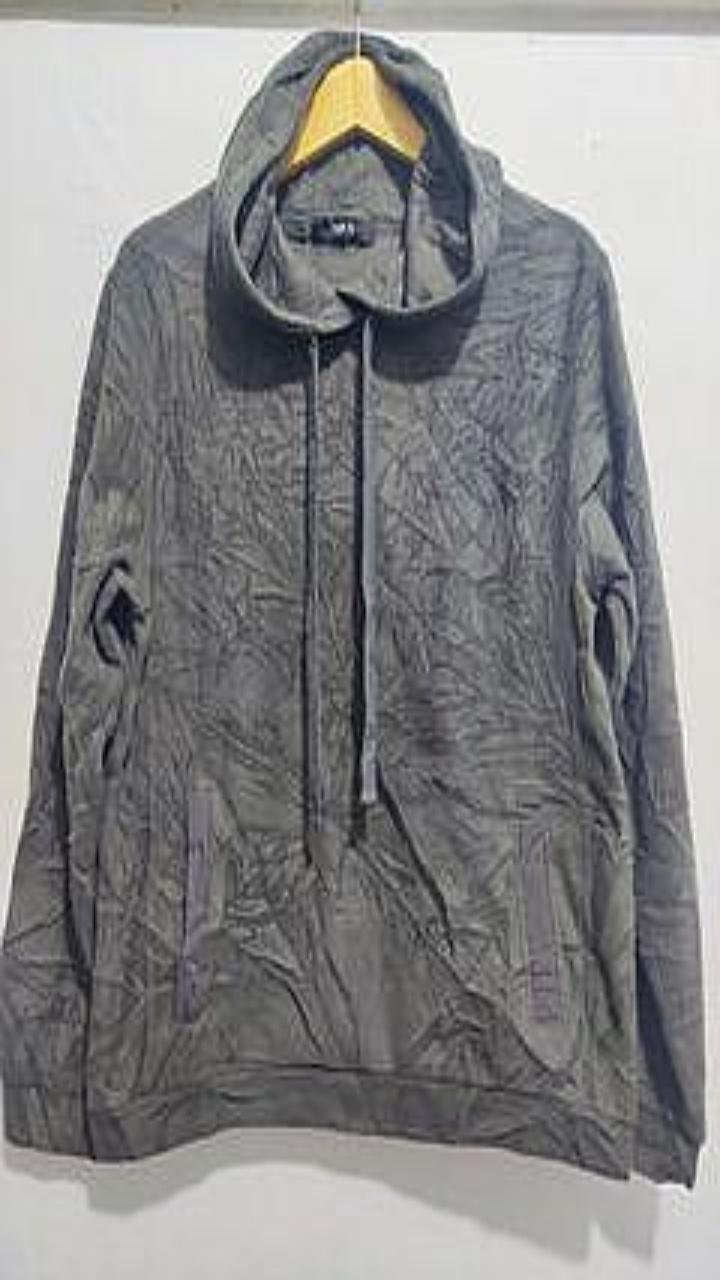Hoodie: (0, 30, 704, 1186)
